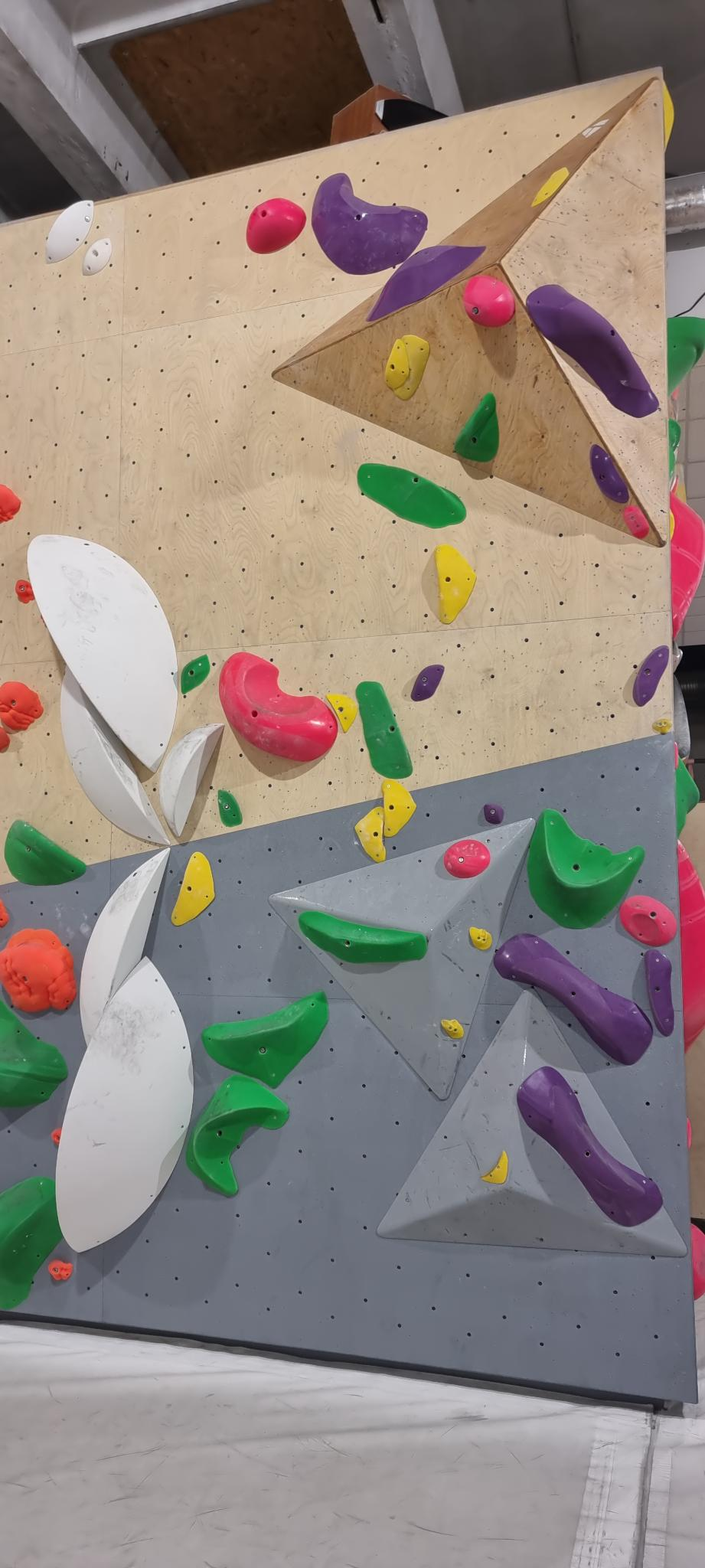hold: (55, 955, 193, 1252), (27, 534, 178, 774), (517, 1066, 663, 1227), (495, 935, 654, 1065), (61, 667, 171, 845), (80, 848, 170, 1048), (526, 285, 659, 418), (528, 809, 645, 929), (219, 653, 338, 762), (186, 1074, 289, 1196), (202, 991, 328, 1088), (312, 174, 428, 275), (366, 245, 487, 322), (0, 1178, 61, 1310), (159, 723, 225, 837), (0, 1000, 67, 1108), (357, 464, 466, 528), (299, 911, 427, 964), (0, 929, 76, 1013), (678, 840, 704, 1056), (356, 681, 413, 779), (4, 820, 86, 886), (670, 492, 704, 639), (246, 199, 306, 254), (435, 544, 476, 624), (172, 852, 215, 926), (454, 393, 499, 462), (46, 200, 94, 263), (668, 316, 704, 399), (620, 896, 677, 947), (464, 275, 516, 327), (644, 951, 674, 1036), (391, 335, 430, 400), (590, 445, 629, 504), (633, 645, 670, 706), (0, 682, 43, 731), (382, 779, 416, 837), (676, 759, 700, 838), (444, 839, 490, 878), (355, 807, 386, 862), (532, 167, 569, 207), (674, 675, 691, 759), (384, 339, 410, 389), (326, 693, 357, 733), (411, 664, 444, 701), (181, 654, 210, 694), (82, 238, 112, 275), (692, 1223, 704, 1300), (218, 790, 242, 827), (624, 505, 650, 539), (482, 1152, 508, 1185), (0, 484, 20, 523), (664, 83, 675, 150), (469, 927, 493, 951), (48, 1260, 72, 1281), (441, 1019, 464, 1040), (484, 803, 504, 825), (15, 580, 34, 603), (669, 418, 682, 450), (653, 719, 673, 734), (669, 446, 676, 481), (0, 727, 10, 751), (673, 641, 680, 674), (0, 900, 8, 928), (51, 1128, 62, 1145), (687, 1118, 692, 1150), (670, 510, 675, 540), (674, 742, 679, 769)
volume: (266, 77, 666, 552), (377, 984, 689, 1255), (268, 820, 537, 1111)
